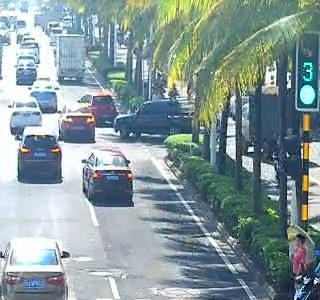greenpeople: (293, 83, 317, 107)
greentime: (300, 61, 319, 80)
